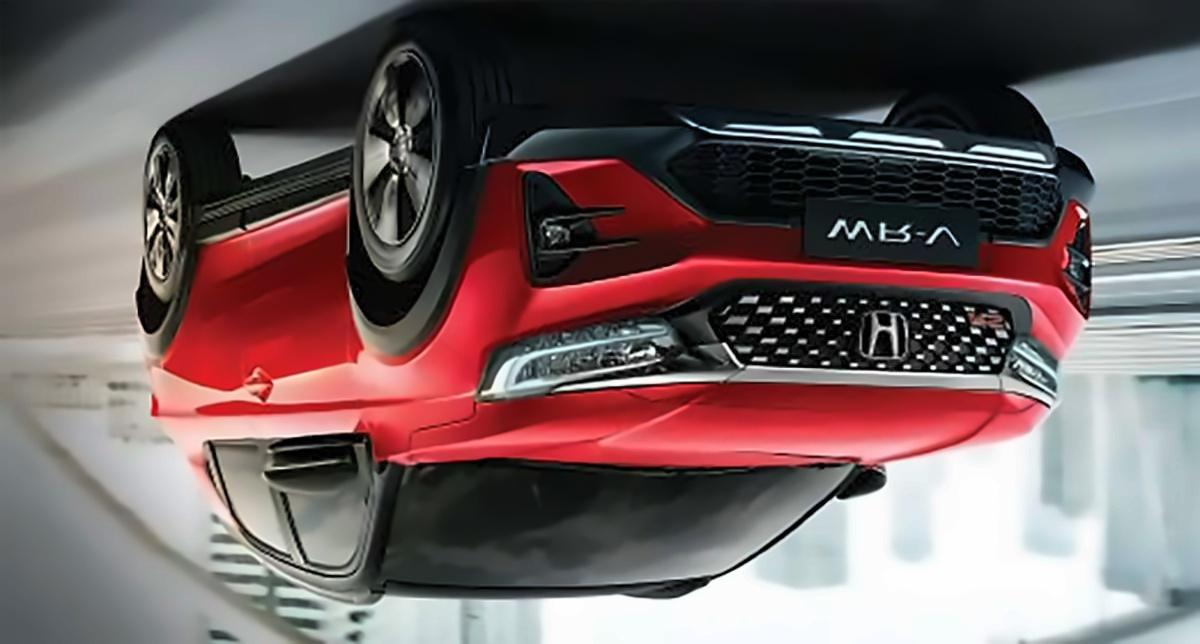Car hood: (404, 380, 1062, 474)
Fender - -F-L-: (346, 182, 481, 466)
Fender - -R-L-: (150, 284, 193, 432)
Front bumper: (443, 96, 1111, 350)
Headlight - -L-: (466, 302, 716, 407)
Headlight - -R-: (996, 327, 1066, 416)
Passenger-s door - -F-L-: (237, 180, 364, 590)
Passenger-s door - -R-L-: (184, 209, 306, 586)
Rear light - -L-: (133, 389, 173, 436)
Side bumper - -L-: (169, 139, 371, 258)
Side mirror - -L-: (250, 426, 372, 505)
Side mirror - -R-: (830, 450, 898, 512)
